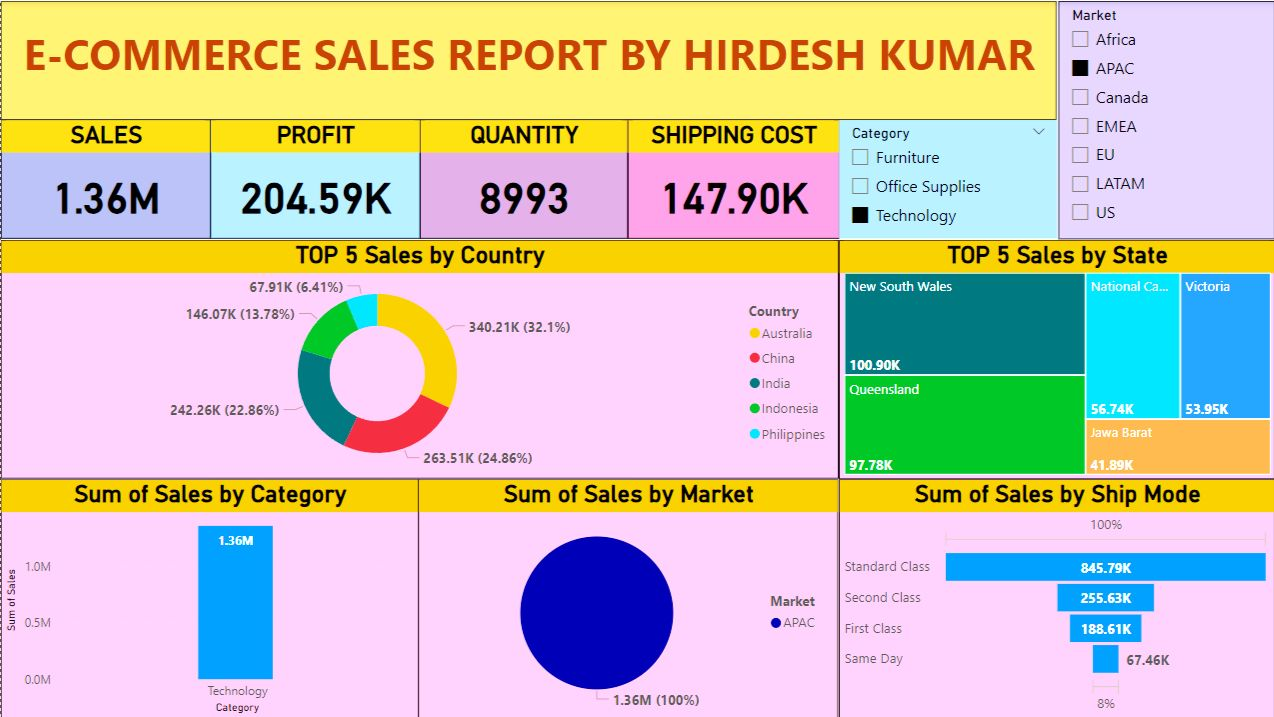

Layout of this report page (visuals, bound fields, positions):
{"tool":"powerbi","page":{"name":"Page 1","canvas":[1280,720],"ordinal":0},"visuals":[{"type":"columnChart","fields":{"Category":["Orders.Category"],"Y":["Sum(Orders.Sales)"]},"box":[0,480,420,240],"z":0},{"type":"pieChart","fields":{"Category":["Orders.Market"],"Y":["Sum(Orders.Sales)"]},"box":[420,480,421.8,240],"z":1000},{"type":"funnel","fields":{"Category":["Orders.Ship Mode"],"Y":["Sum(Orders.Sales)"]},"box":[841.8,480,438.2,240],"z":2000},{"type":"donutChart","title":"TOP 5 Sales by Country","fields":{"Category":["Orders.Country"],"Y":["Sum(Orders.Sales)"]},"box":[0,239.6,841.7,239.6],"z":3000},{"type":"treemap","title":"TOP 5 Sales by State","fields":{"Group":["Orders.State"],"Values":["Sum(Orders.Sales)"]},"box":[841.8,240,438.2,240],"z":4000},{"type":"card","title":"SALES","fields":{"Values":["Sum(Orders.Sales)"]},"box":[0,119.6,210.7,119.6],"z":5000},{"type":"card","title":"PROFIT","fields":{"Values":["Sum(Orders.Profit)"]},"box":[210.7,119.6,210.7,119.6],"z":6000},{"type":"card","title":"QUANTITY","fields":{"Values":["Sum(Orders.Quantity)"]},"box":[421.4,119.6,208.9,119.6],"z":7000},{"type":"card","title":"SHIPPING COST","fields":{"Values":["Sum(Orders.Shipping Cost)"]},"box":[630.4,119.6,212.5,119.6],"z":8000},{"type":"slicer","fields":{"Values":["Orders.Category"]},"box":[842.9,119.6,219.6,119.6],"z":9000},{"type":"slicer","fields":{"Values":["Orders.Market"]},"box":[1062.5,0,217.9,239.3],"z":10000},{"type":"textbox","box":[0,0,1060.7,119.6],"z":11000}]}

Visuals, with their boxes in screenshot pixels (x1, y1, x2, y2), scaled from the page's 1280x720 canvas onto the 1274x717 screenshot:
columnChart - Orders.Category x Sum(Orders.Sales): rect(0, 478, 418, 716)
pieChart - Orders.Market x Sum(Orders.Sales): rect(418, 478, 838, 716)
funnel - Orders.Ship Mode x Sum(Orders.Sales): rect(838, 478, 1273, 716)
"TOP 5 Sales by Country" donutChart: rect(0, 239, 838, 477)
"TOP 5 Sales by State" treemap: rect(838, 239, 1273, 478)
"SALES" card: rect(0, 119, 210, 238)
"PROFIT" card: rect(210, 119, 419, 238)
"QUANTITY" card: rect(419, 119, 627, 238)
"SHIPPING COST" card: rect(627, 119, 839, 238)
slicer - Orders.Category: rect(839, 119, 1058, 238)
slicer - Orders.Market: rect(1058, 0, 1273, 238)
textbox: rect(0, 0, 1056, 119)
